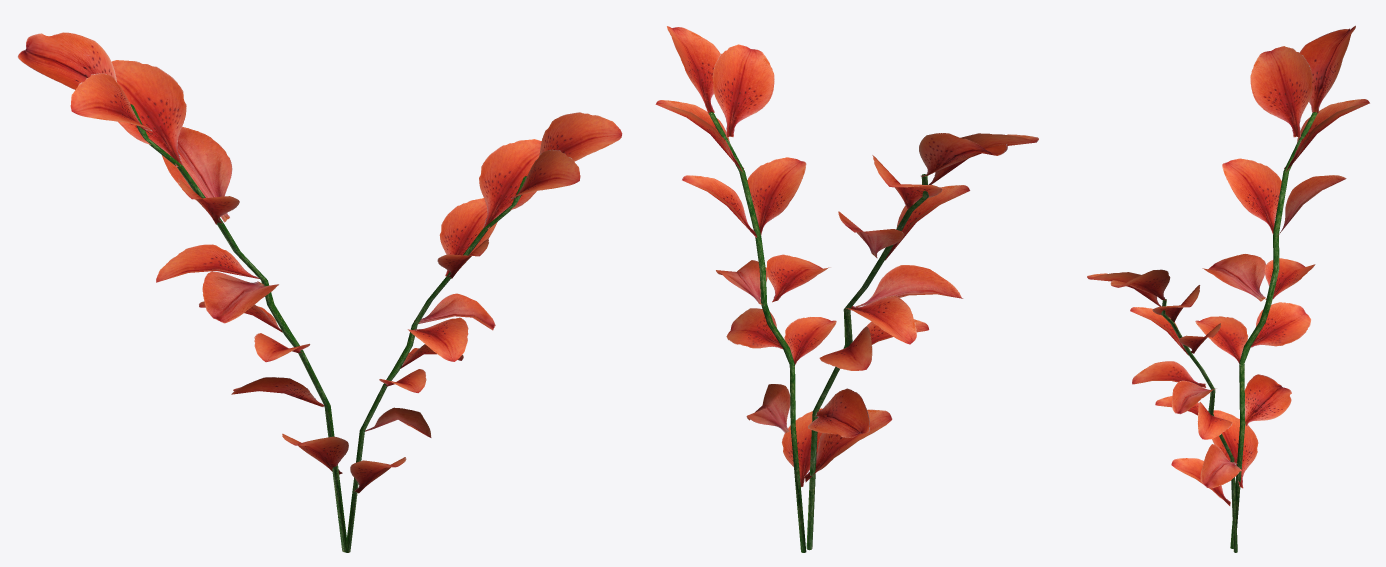
File: plant m.dae
The picture shows the model from 3 angles, left to right: view 1: azimuth 30°, elevation 25°; view 2: azimuth 150°, elevation 25°; view 3: azimuth 270°, elevation 25°; orthographic projection. The views are drawn at different scales.
Visible parts, largest first — view 1: plant_m_Form26, plant_m_Shape0; view 2: plant_m_Form26, plant_m_Shape0; view 3: plant_m_Form26, plant_m_Shape0.
Boxes of the visible parts, left/top/right/bottom form: plant_m_Form26: left=17, top=32, right=622, bottom=493; plant_m_Shape0: left=130, top=104, right=526, bottom=552; plant_m_Form26: left=655, top=26, right=1038, bottom=486; plant_m_Shape0: left=708, top=112, right=928, bottom=552; plant_m_Form26: left=1087, top=25, right=1369, bottom=505; plant_m_Shape0: left=1161, top=112, right=1317, bottom=552.
Size of the model in its own units: 54.72 by 57.69 by 34.79.
2 materials, 2 textured.
